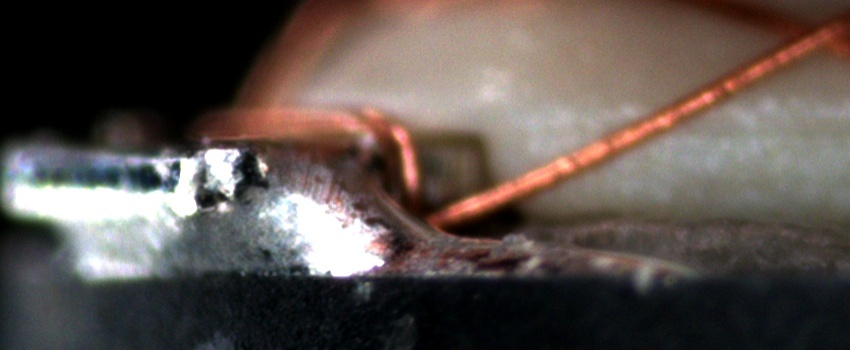DL: (532, 95, 850, 161)
TE: (197, 95, 426, 207)
